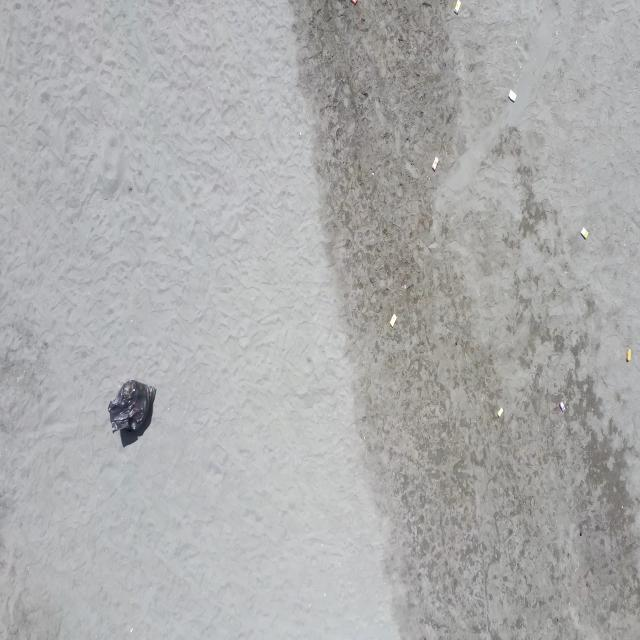Garbage: (108, 380, 155, 431), (388, 312, 395, 326), (453, 0, 460, 13), (580, 227, 587, 239), (557, 400, 564, 412), (432, 156, 437, 171), (495, 407, 503, 416), (508, 91, 515, 100), (627, 347, 631, 362), (351, 0, 356, 4)
